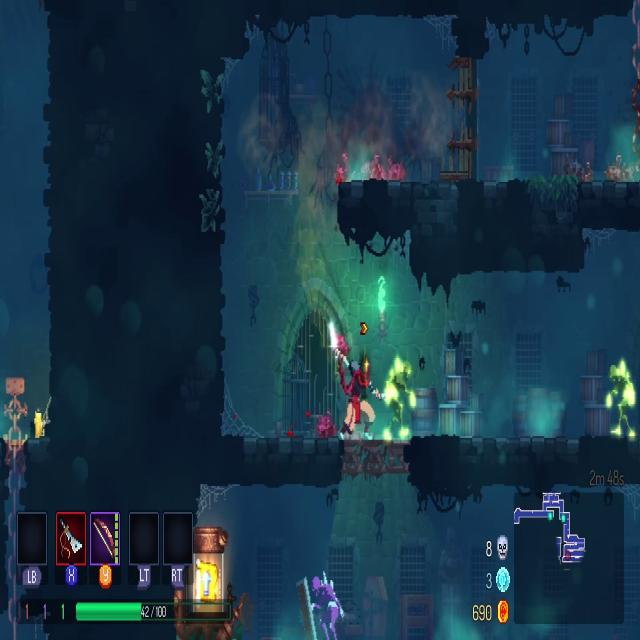agents: (338, 356, 382, 446)
enemy_green_puncher: (380, 353, 418, 445), (607, 359, 639, 437)
enemy_purple_shield: (301, 571, 348, 638)
